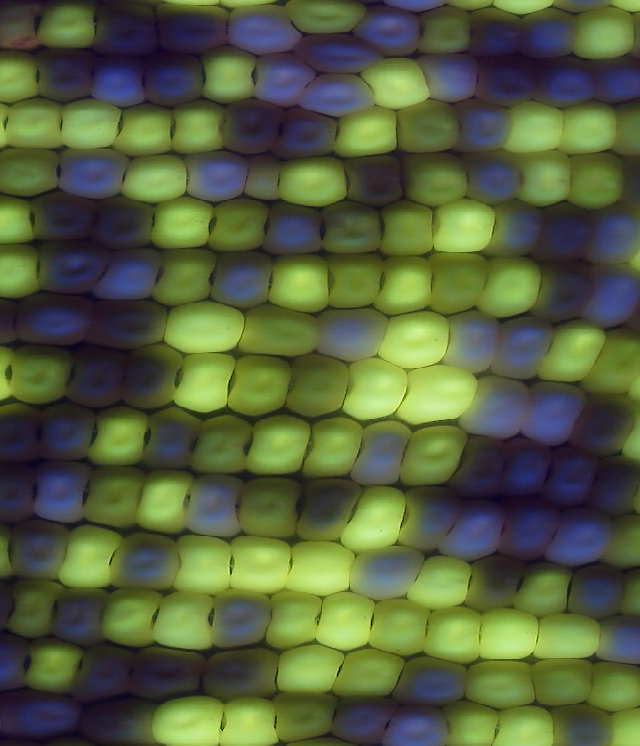fluorescent: (377, 305, 460, 375), (390, 358, 475, 425), (234, 301, 329, 357), (335, 355, 411, 424), (360, 593, 437, 661), (173, 344, 239, 422), (163, 299, 251, 357), (370, 252, 443, 321), (280, 350, 353, 419), (55, 91, 130, 158), (543, 318, 613, 389), (246, 410, 315, 482), (340, 484, 412, 553), (225, 349, 293, 422), (423, 242, 488, 318), (401, 420, 468, 493), (205, 196, 279, 260), (327, 646, 411, 702), (145, 192, 222, 252), (283, 538, 355, 602), (304, 412, 369, 482), (420, 603, 491, 667), (238, 476, 304, 544), (21, 632, 89, 698), (460, 661, 544, 714), (148, 247, 222, 307), (138, 463, 198, 537), (356, 56, 438, 110), (474, 604, 547, 664), (171, 530, 239, 594), (189, 410, 259, 472), (394, 96, 466, 156), (148, 591, 217, 653), (313, 589, 379, 653), (118, 153, 199, 205), (429, 200, 502, 257), (402, 149, 468, 212), (268, 252, 334, 315), (228, 534, 297, 594), (3, 346, 73, 405), (276, 154, 352, 208), (507, 95, 572, 158), (473, 258, 539, 320), (267, 585, 329, 651), (150, 697, 233, 746), (588, 326, 640, 403), (62, 521, 121, 588), (569, 7, 640, 62), (563, 149, 628, 209), (524, 658, 599, 710), (2, 98, 74, 152), (271, 642, 346, 693), (557, 100, 624, 157), (378, 202, 446, 258), (0, 146, 69, 200), (334, 105, 407, 156), (198, 45, 260, 105), (113, 101, 177, 159), (88, 409, 154, 465), (406, 555, 473, 610), (530, 612, 605, 661), (320, 255, 388, 309), (102, 590, 163, 649), (213, 697, 286, 746), (86, 466, 148, 523), (43, 1, 105, 57), (516, 149, 574, 207), (6, 580, 60, 641), (270, 690, 339, 737), (280, 1, 370, 37), (517, 563, 579, 615), (168, 99, 226, 152), (489, 702, 557, 746), (583, 657, 640, 708), (443, 700, 504, 746), (414, 7, 469, 58), (0, 243, 48, 300), (0, 187, 38, 252), (0, 47, 41, 104), (608, 512, 640, 571), (608, 703, 640, 746)
nonfluorescent: (347, 538, 433, 615), (344, 2, 438, 64), (0, 688, 98, 743), (205, 250, 281, 318), (463, 371, 541, 437), (435, 497, 515, 561), (73, 691, 166, 746), (226, 1, 312, 59), (523, 377, 592, 448), (543, 506, 612, 577), (532, 258, 602, 327), (108, 529, 186, 590), (301, 477, 365, 551), (10, 297, 99, 350), (94, 245, 170, 307), (159, 1, 244, 56), (3, 513, 72, 580), (576, 390, 640, 462), (456, 145, 529, 208), (33, 240, 113, 297), (395, 484, 465, 549), (442, 309, 505, 381), (314, 307, 391, 365), (579, 258, 640, 331), (200, 643, 282, 697), (340, 151, 409, 214), (493, 311, 552, 384), (566, 559, 632, 624), (51, 149, 131, 202), (88, 303, 174, 352), (585, 444, 640, 520), (542, 439, 599, 512), (351, 422, 415, 487), (43, 585, 111, 646), (290, 31, 391, 72), (120, 341, 180, 410), (25, 192, 103, 245), (132, 647, 204, 703), (303, 71, 385, 120), (137, 52, 210, 107), (481, 204, 549, 263), (93, 1, 163, 58), (30, 456, 86, 527), (451, 95, 517, 155), (180, 148, 249, 205), (498, 499, 561, 561), (184, 477, 248, 538), (69, 648, 137, 705), (395, 653, 468, 706), (28, 45, 97, 101), (467, 553, 536, 609), (275, 105, 340, 164), (145, 404, 201, 472), (523, 6, 587, 64), (504, 427, 555, 499), (536, 199, 595, 261), (30, 404, 92, 463), (545, 700, 624, 746), (534, 52, 601, 106), (69, 344, 128, 405), (88, 56, 152, 112), (411, 49, 476, 103), (466, 4, 529, 57), (93, 198, 158, 249), (245, 52, 311, 102), (262, 204, 323, 258), (0, 453, 41, 533), (582, 51, 640, 107), (377, 704, 453, 746), (456, 434, 507, 496), (587, 202, 640, 261), (223, 102, 284, 152), (214, 590, 267, 647), (329, 697, 399, 740), (475, 54, 531, 107), (0, 404, 52, 458), (0, 1, 46, 57), (594, 613, 640, 669), (0, 630, 34, 685)
